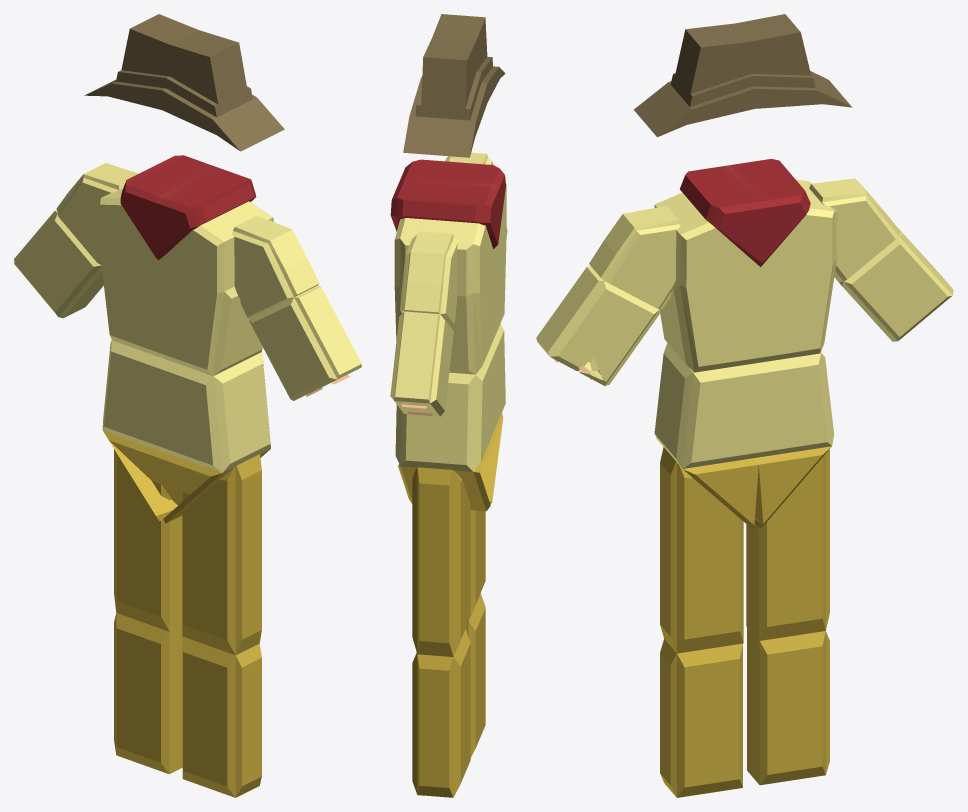
File: ClothesForSkins.fbx
3 views of the same model, side by side, from view 1: azimuth 30°, elevation 25°; view 2: azimuth 150°, elevation 25°; view 3: azimuth 270°, elevation 25° (orthographic). The views are drawn at different scales.
Visible parts, largest first — view 1: pCube13; view 2: pCube13; view 3: pCube13.
Boxes of the visible parts, x1,y1,x2,y2 form: pCube13: (14, 14, 361, 797); pCube13: (390, 14, 507, 797); pCube13: (536, 14, 953, 797).
Size of the model in its own units: 0.9366 by 4.16 by 2.11.
1 material, 1 textured.
